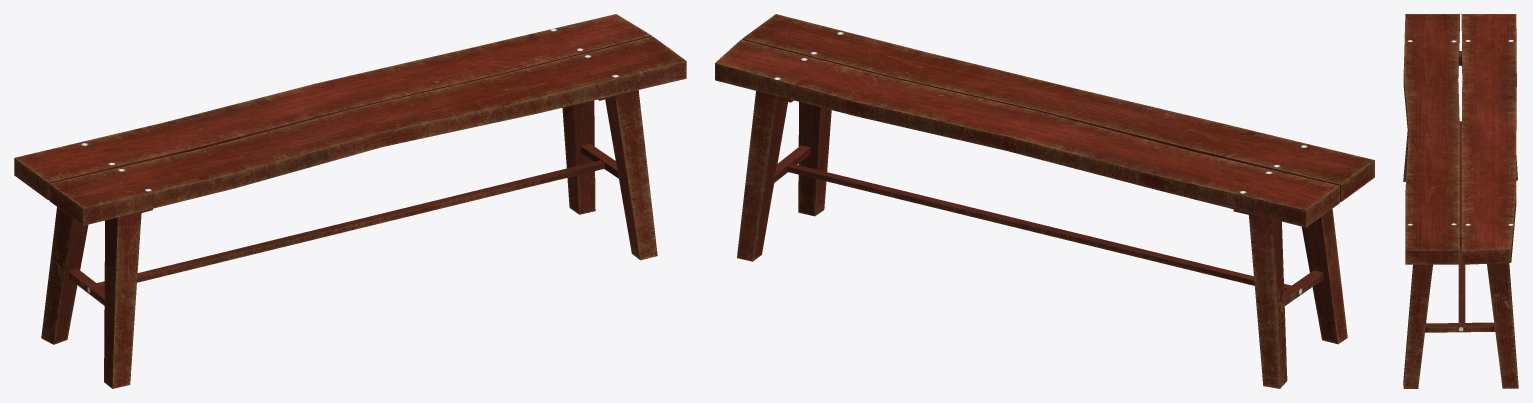
File: old_wooden_bench_low-poly.glb
3 renders of one model, left to right at view 1: azimuth 30°, elevation 25°; view 2: azimuth 150°, elevation 25°; view 3: azimuth 270°, elevation 25°, orthographic. The views are drawn at different scales.
Visible parts, largest first — view 1: bench; view 2: bench; view 3: bench.
Part boxes in pixels (<box>): bench: <box>14,14,686,388</box>; bench: <box>715,14,1374,388</box>; bench: <box>1403,14,1518,388</box>.
Bounding box in the file's own units: 1.31 × 0.3883 × 0.2696.
Materials: 1 (1 with a texture image).
